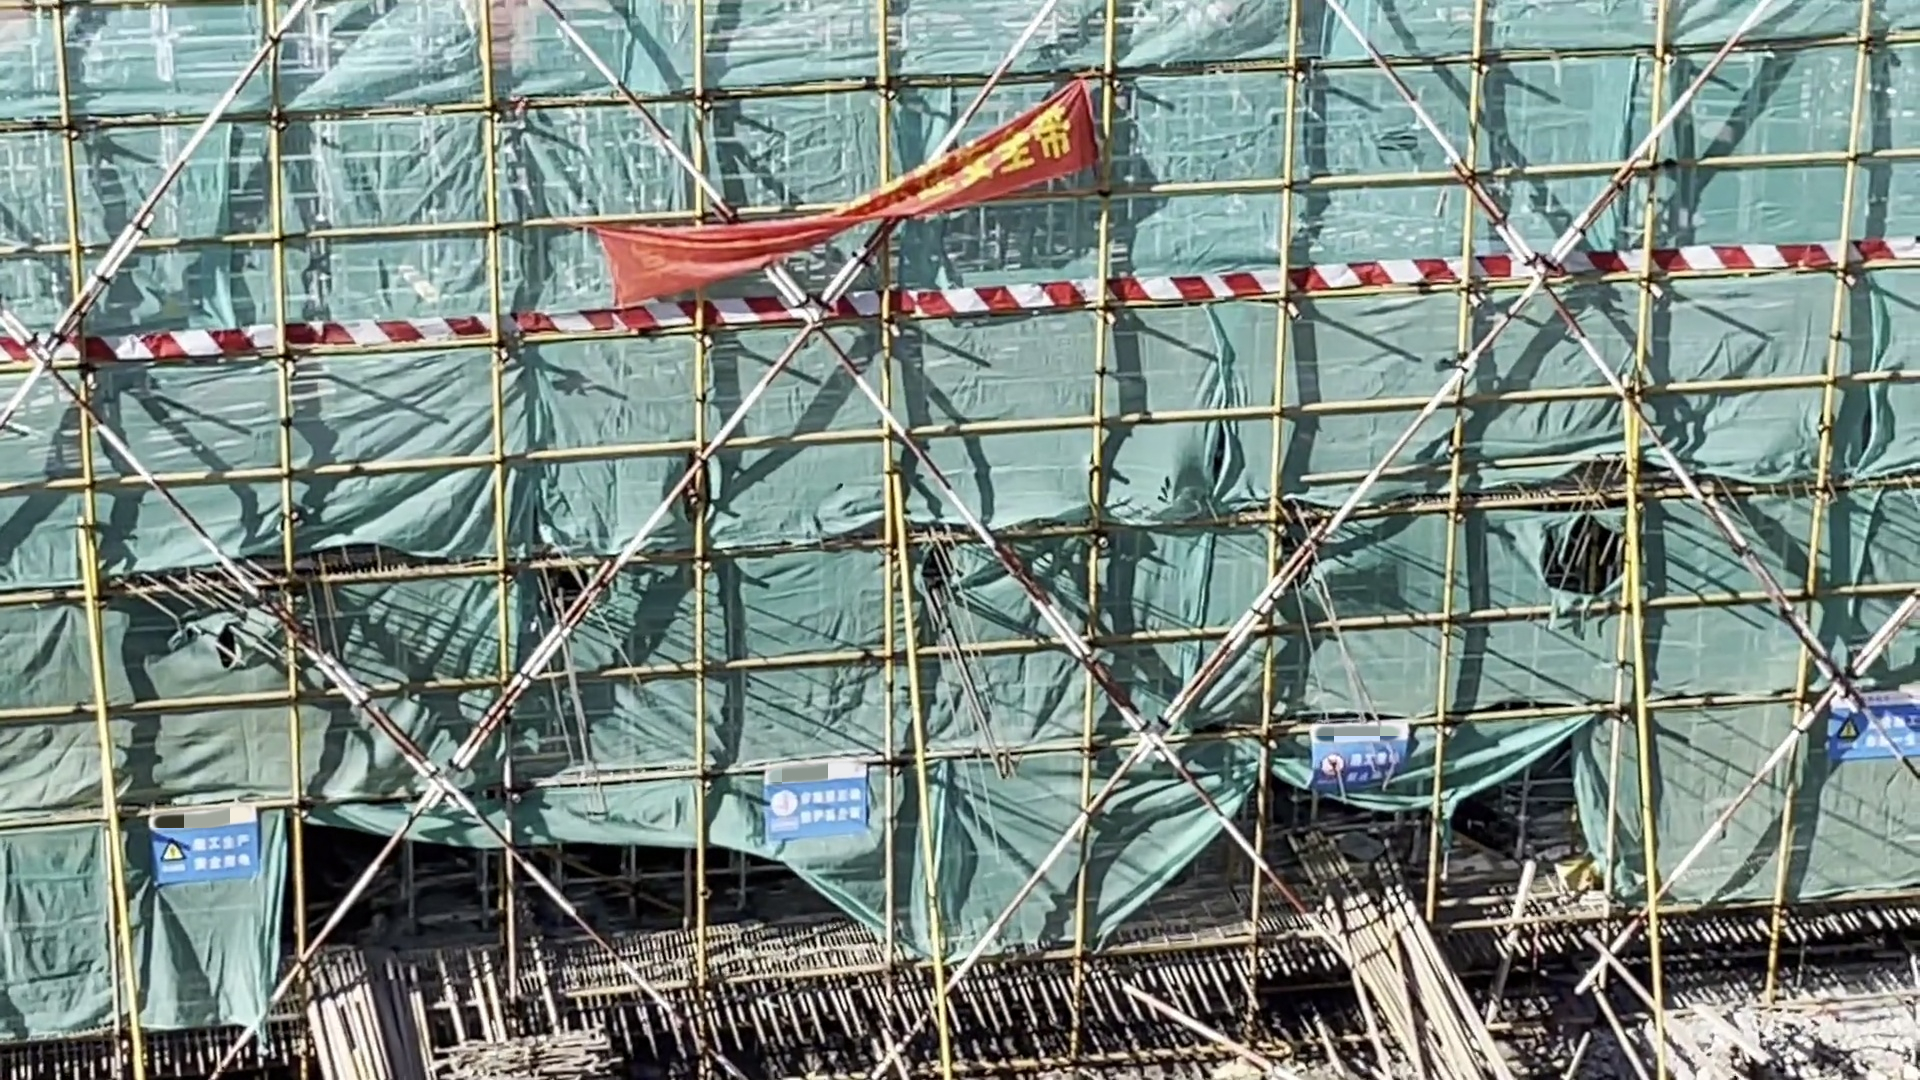slogan: (597, 67, 1087, 316), (160, 816, 262, 880), (769, 771, 865, 835), (1833, 695, 1920, 756), (1315, 727, 1402, 783)
